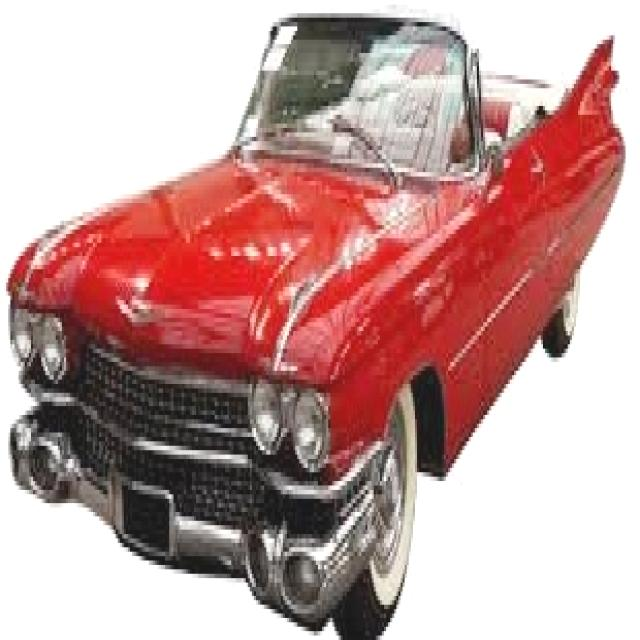red: (14, 4, 640, 640)
